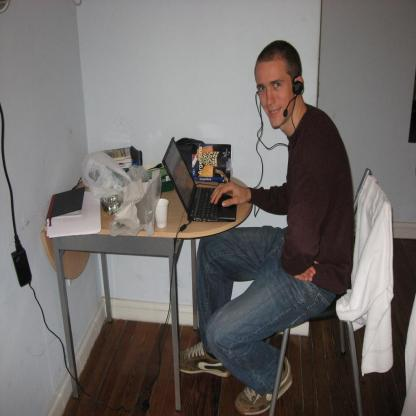board: (162, 138, 238, 223)
